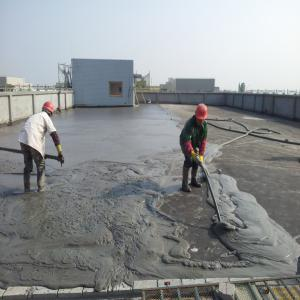red: (194, 104, 209, 126), (41, 101, 56, 119)
